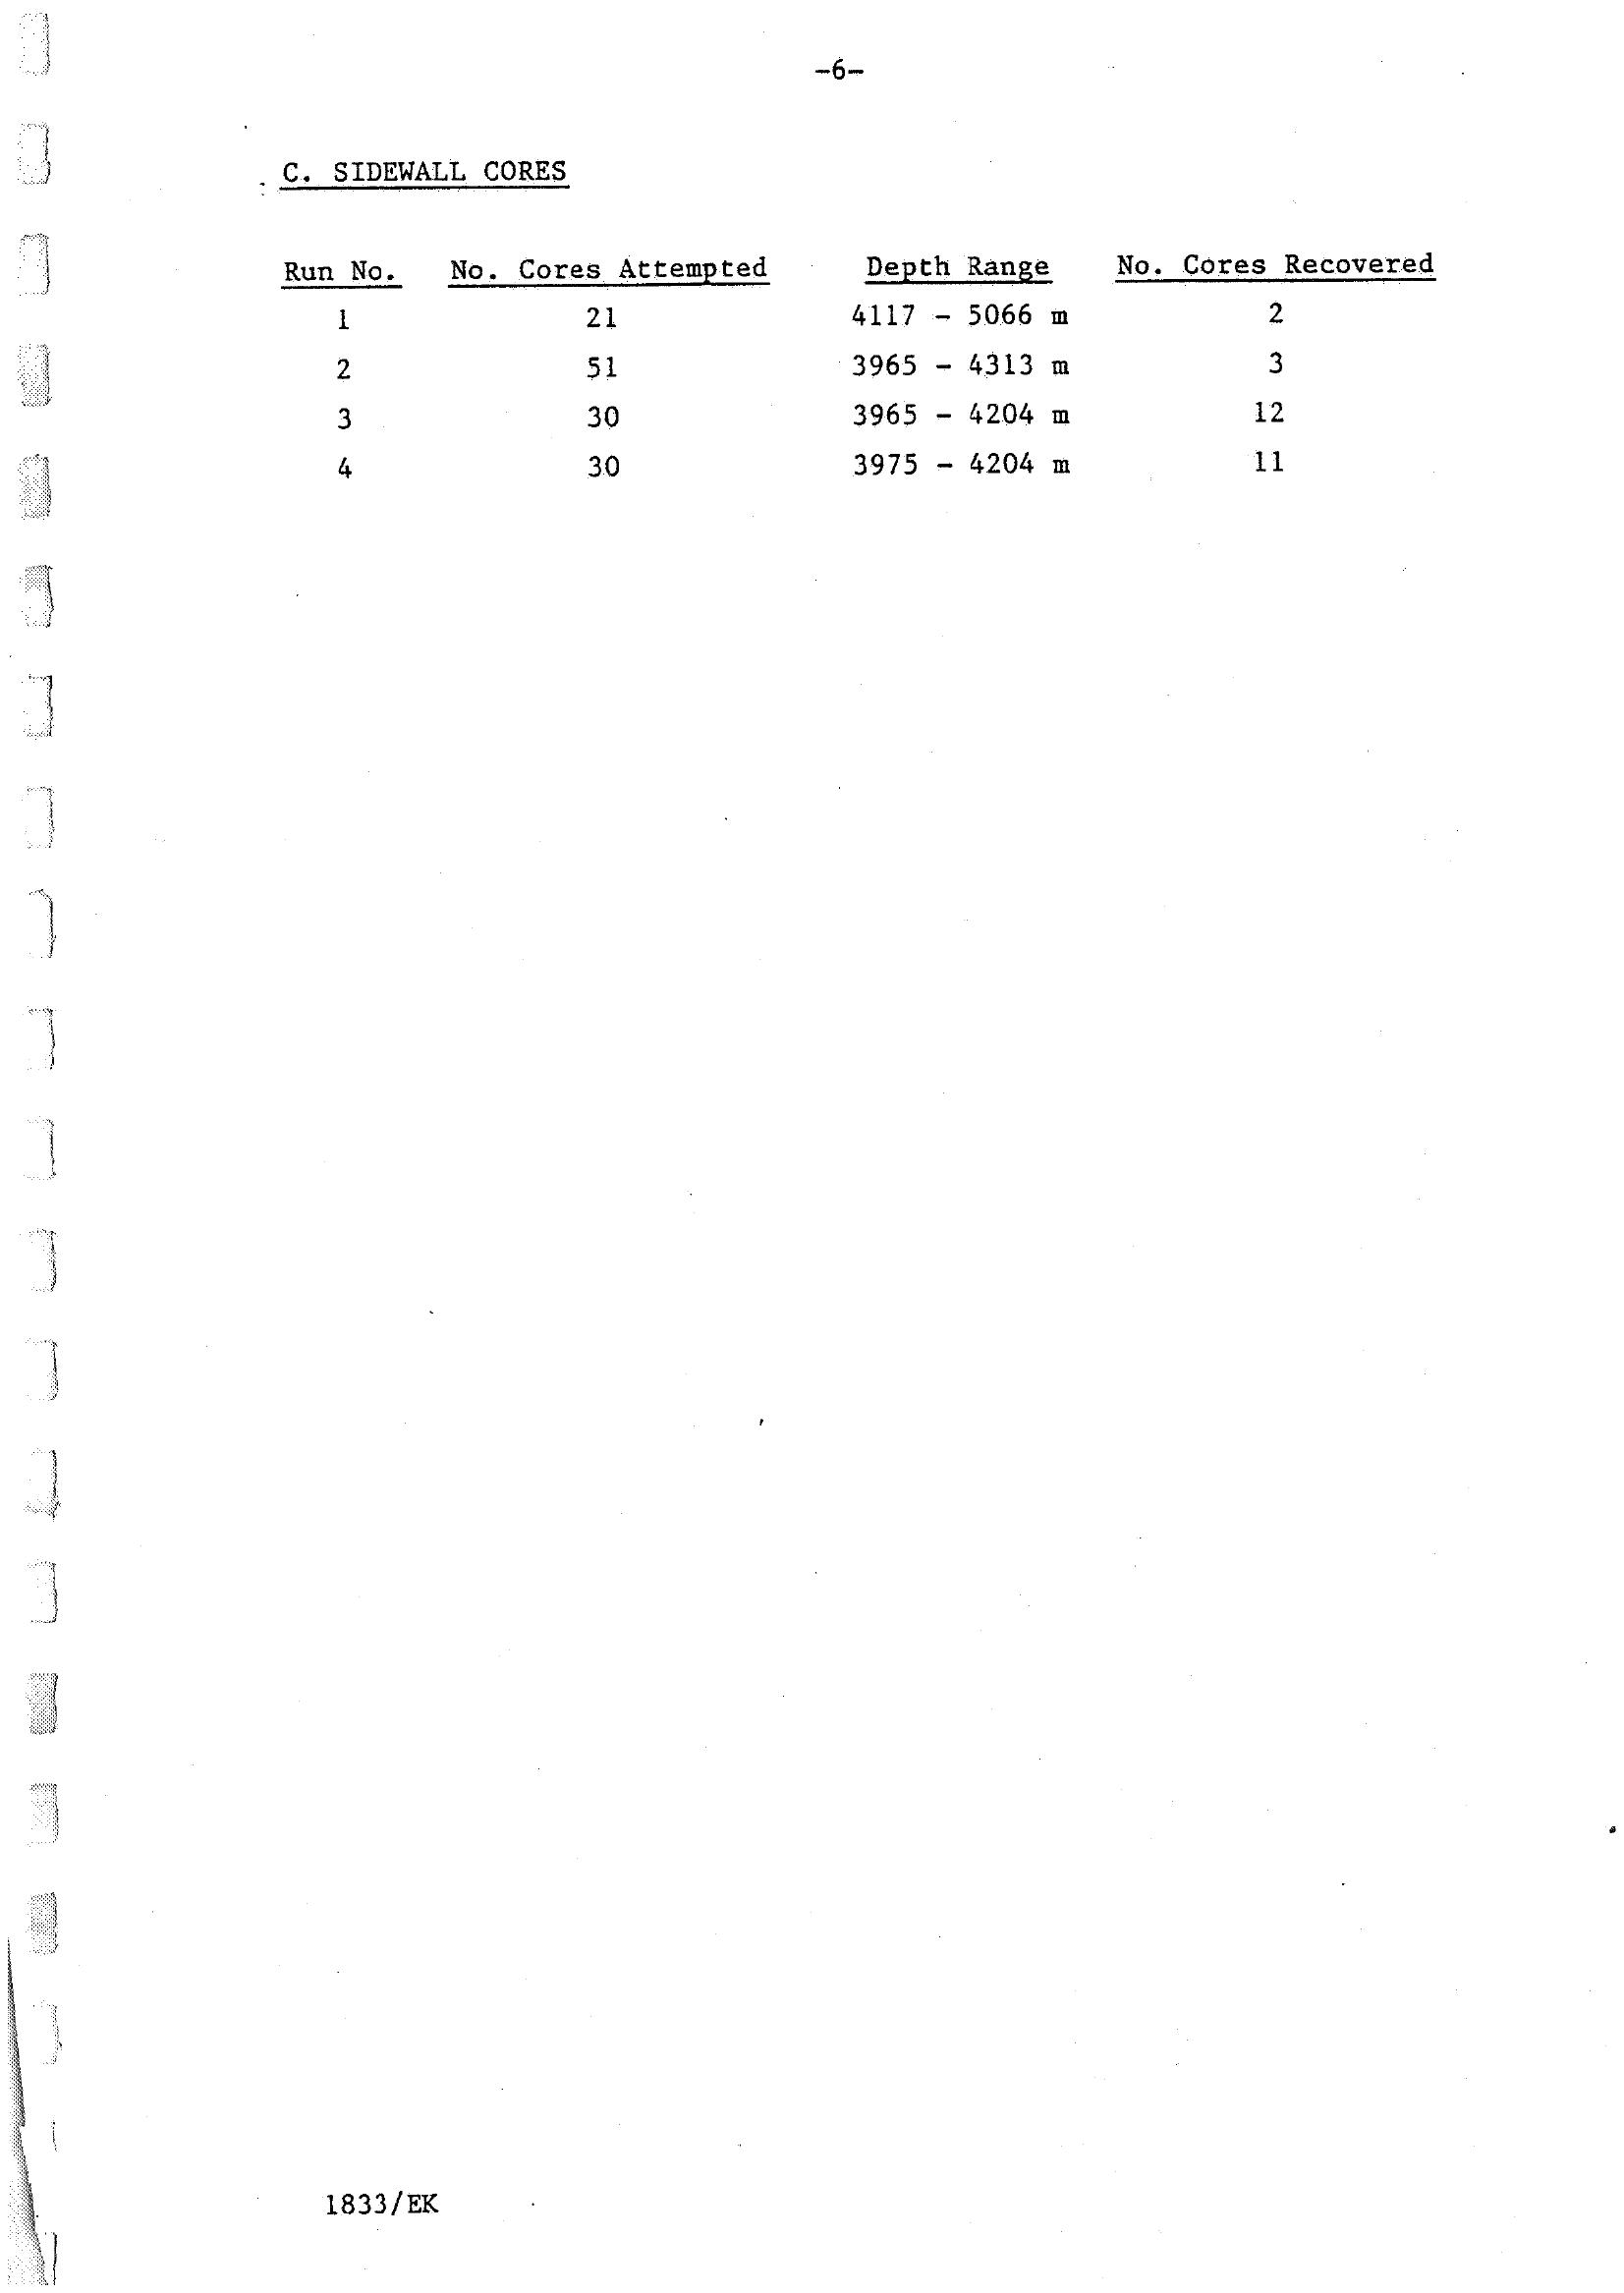table: (214, 128, 1494, 527)
